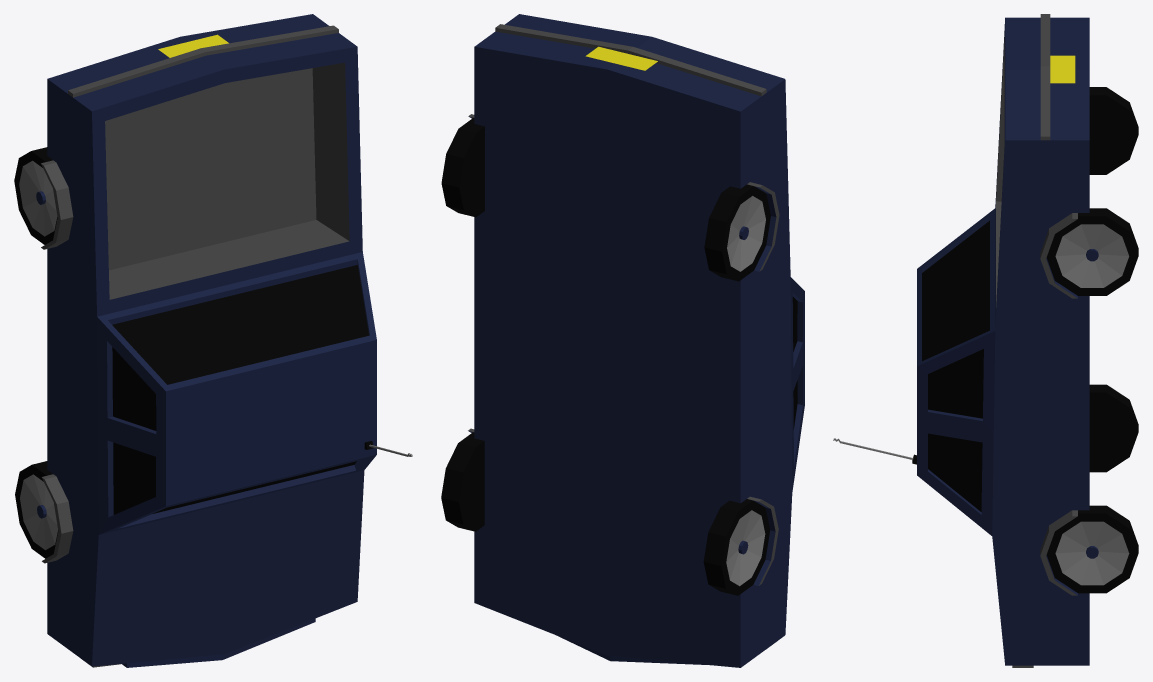
The model's file is Carro_Fear.fbx.
3 views of the same model, side by side, from view 1: azimuth 30°, elevation 25°; view 2: azimuth 150°, elevation 25°; view 3: azimuth 270°, elevation 25° (orthographic). The views are drawn at different scales.
Visible parts, largest first — view 1: Cuerpo Camioneta; view 2: Cuerpo Camioneta; view 3: Cuerpo Camioneta.
Boxes of the visible parts, x1=… form: Cuerpo Camioneta: x1=14, y1=14, x2=412, y2=667; Cuerpo Camioneta: x1=441, y1=14, x2=804, y2=667; Cuerpo Camioneta: x1=833, y1=14, x2=1138, y2=667.
Size of the model in its own units: 5.39 by 10.54 by 5.17.
